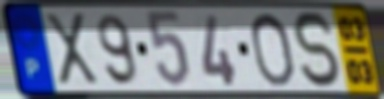4: (199, 11, 240, 89)
5: (142, 8, 193, 92)
9: (94, 13, 140, 87)
O: (247, 11, 297, 89)
S: (289, 9, 346, 91)
X: (41, 11, 102, 89)
